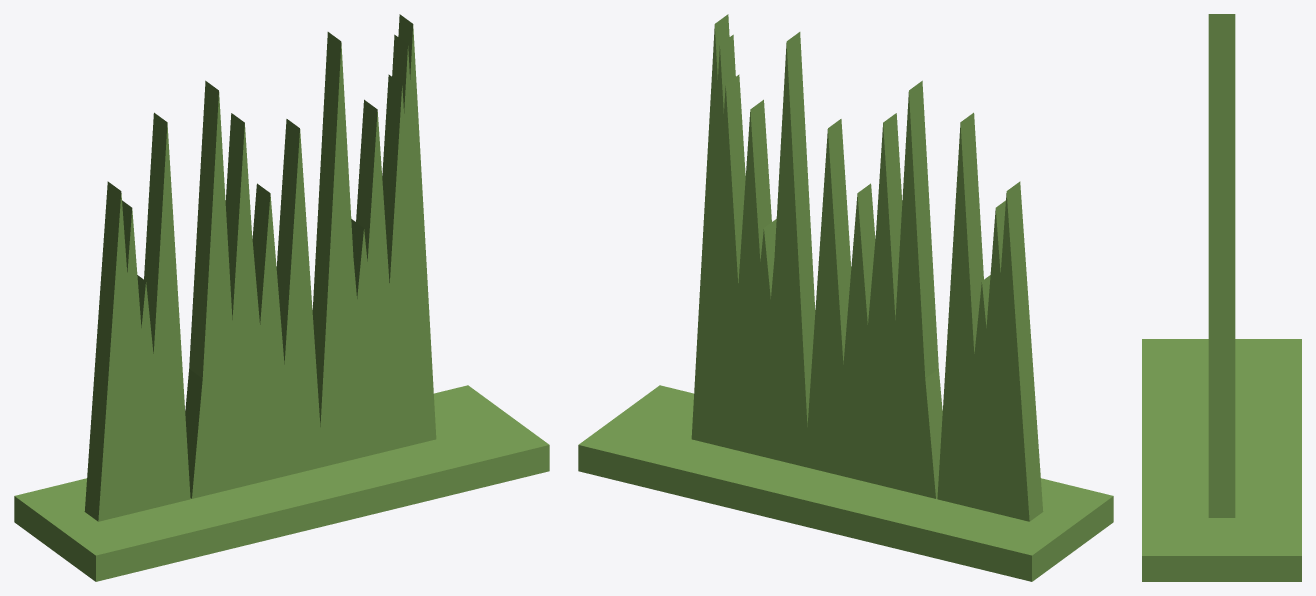
File: GG-VEG-GRASS-COASTAL-DENSE-001_LOD_CLOSE.glb
The picture shows the model from 3 angles, left to right: view 1: azimuth 30°, elevation 25°; view 2: azimuth 150°, elevation 25°; view 3: azimuth 270°, elevation 25°; orthographic projection.
Visible parts, largest first — view 1: GG_VEG_MOD_BASE_001, GG_VEG_MODULE_7, GG_VEG_MODULE_15, GG_VEG_MODULE_8, GG_VEG_MODULE_10, GG_VEG_MODULE_5, GG_VEG_MODULE_2, GG_VEG_MODULE_16, GG_VEG_MODULE_14, GG_VEG_MODULE_4, GG_VEG_MODULE_17, GG_VEG_MODULE_13 (+7 smaller); view 2: GG_VEG_MOD_BASE_001, GG_VEG_MODULE_15, GG_VEG_MODULE_7, GG_VEG_MODULE_10, GG_VEG_MODULE_8, GG_VEG_MODULE_5, GG_VEG_MODULE_4, GG_VEG_MODULE_18, GG_VEG_MODULE_16, GG_VEG_MODULE_2, GG_VEG_MODULE_14, GG_VEG_MODULE_6 (+6 smaller); view 3: GG_VEG_MOD_BASE_001, GG_VEG_MODULE_4, GG_VEG_MODULE_7, GG_VEG_MODULE_15.
Boxes of the visible parts, x1,y1,x2,y2 form: GG_VEG_MOD_BASE_001: (14,385,549,581); GG_VEG_MODULE_7: (189,80,242,497); GG_VEG_MODULE_15: (312,32,364,467); GG_VEG_MODULE_8: (84,181,139,521); GG_VEG_MODULE_10: (144,112,190,504); GG_VEG_MODULE_5: (276,119,322,475); GG_VEG_MODULE_2: (379,74,425,453); GG_VEG_MODULE_16: (355,99,400,458); GG_VEG_MODULE_14: (247,183,293,484); GG_VEG_MODULE_4: (390,14,436,447); GG_VEG_MODULE_17: (325,194,370,466); GG_VEG_MODULE_13: (225,113,267,485); GG_VEG_MOD_BASE_001: (578,385,1113,581); GG_VEG_MODULE_15: (763,32,815,466); GG_VEG_MODULE_7: (891,80,938,497); GG_VEG_MODULE_10: (937,112,983,507); GG_VEG_MODULE_8: (991,181,1043,521); GG_VEG_MODULE_5: (805,119,851,473); GG_VEG_MODULE_4: (691,14,737,450); GG_VEG_MODULE_18: (698,34,742,451); GG_VEG_MODULE_16: (733,99,772,456); GG_VEG_MODULE_2: (703,74,747,451); GG_VEG_MODULE_14: (834,183,878,484); GG_VEG_MODULE_6: (854,219,900,489); GG_VEG_MOD_BASE_001: (1142,339,1301,581); GG_VEG_MODULE_4: (1208,94,1235,517); GG_VEG_MODULE_7: (1208,20,1235,59); GG_VEG_MODULE_15: (1208,59,1235,93).
Size of the model in its own units: 1.08 by 1.02 by 0.336.
